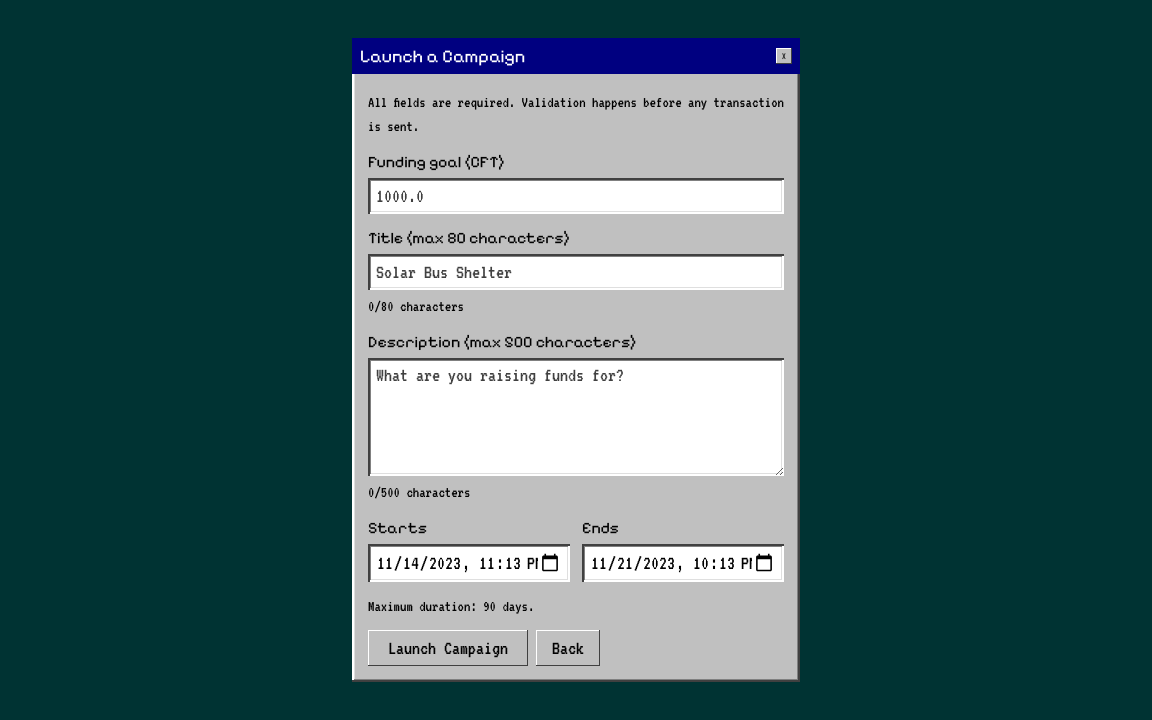
it: LaunchDialog — every violation named, nothing sent › rejects a non-numeric goal
In the field with test id "launch-goal": {"x": 576, "y": 196} x1=368 y1=178 x2=784 y2=214, type "abc"
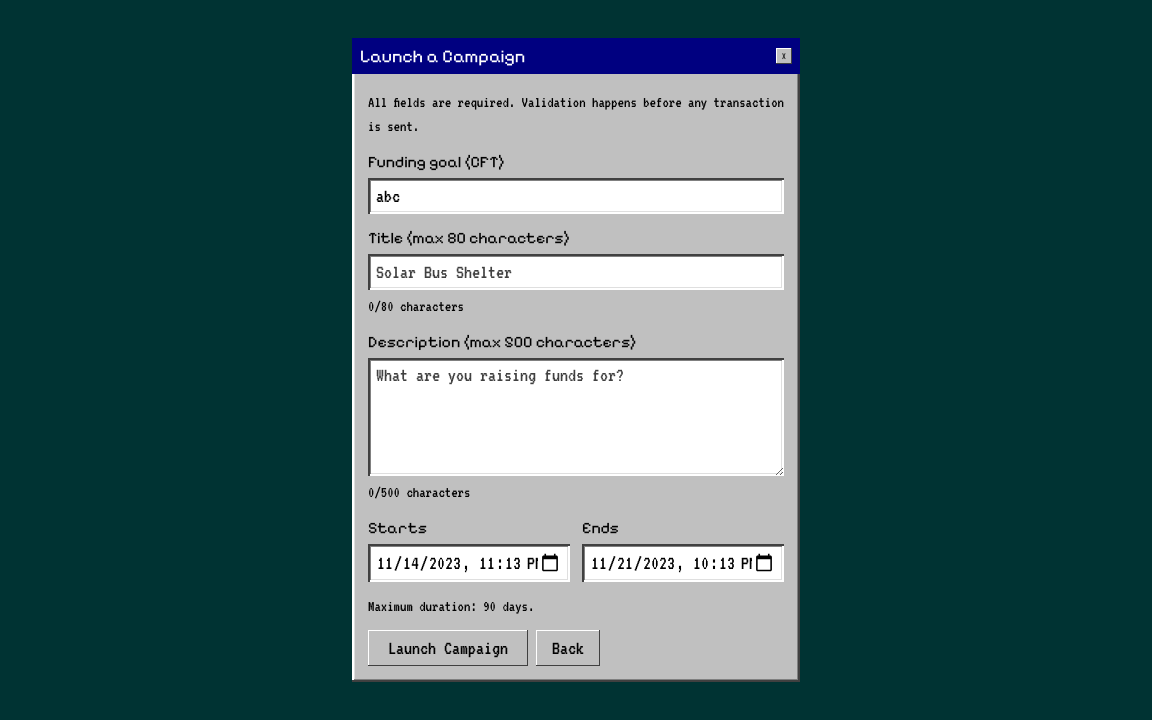
In the field with test id "launch-title": {"x": 576, "y": 272} x1=368 y1=254 x2=784 y2=290, type "T"
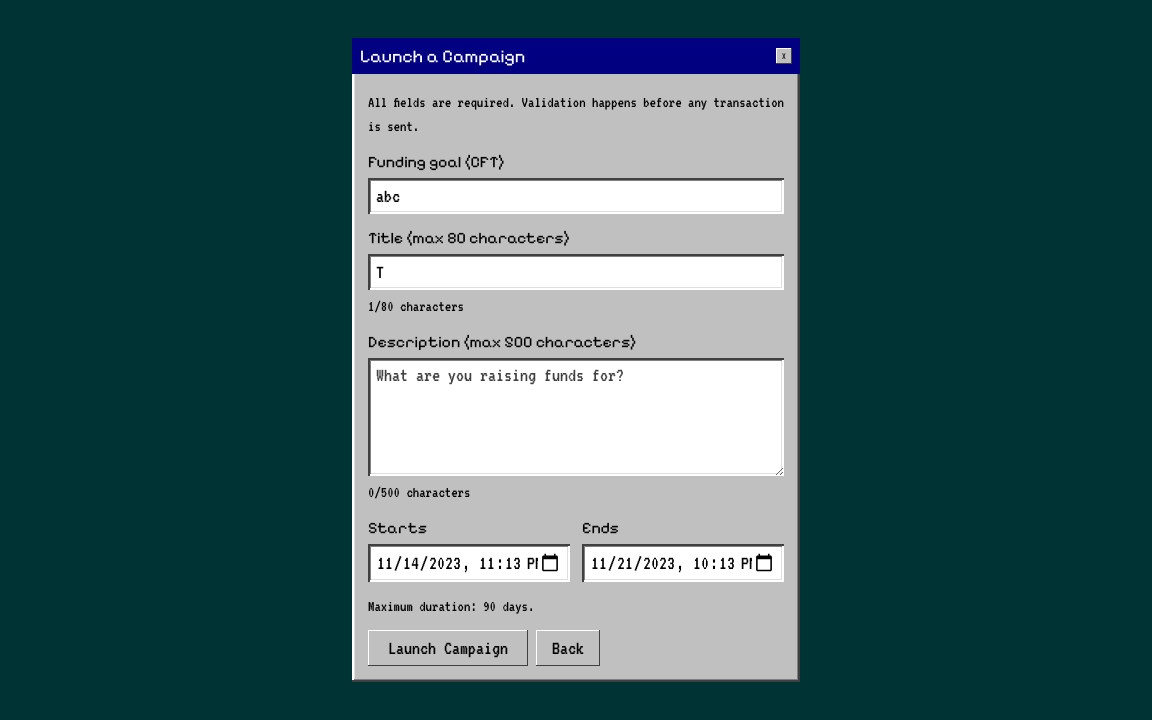
In the text box with test id "launch-description": {"x": 576, "y": 417} x1=368 y1=358 x2=784 y2=476, type "D"
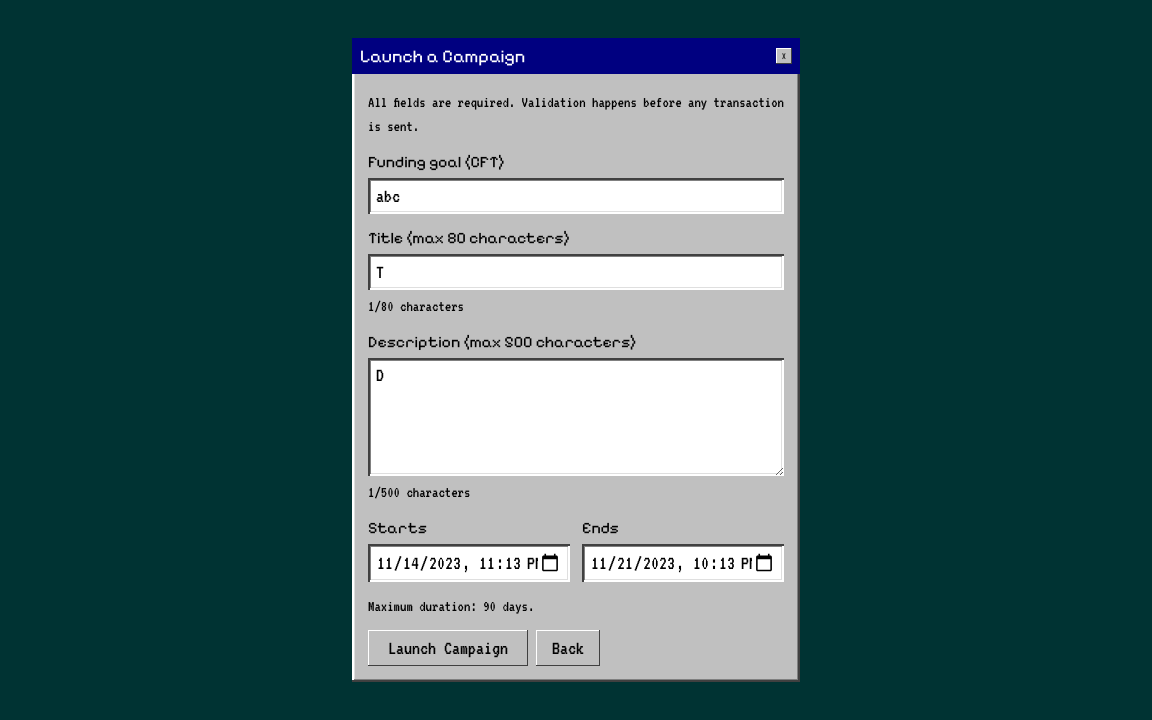
Click the button with test id "launch-submit": {"x": 448, "y": 648} x1=368 y1=630 x2=528 y2=666
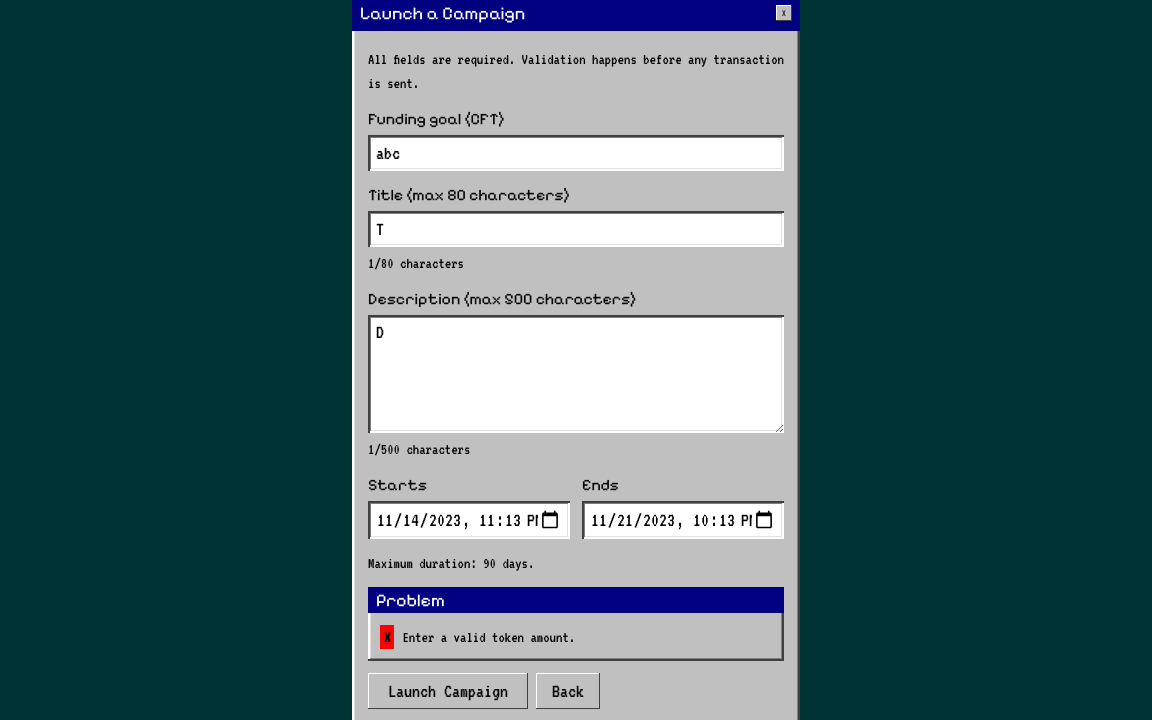
Check: the message with test id "launch-error-message" shows "Enter a valid token amount.", box x1=402 y1=629 x2=575 y2=645
